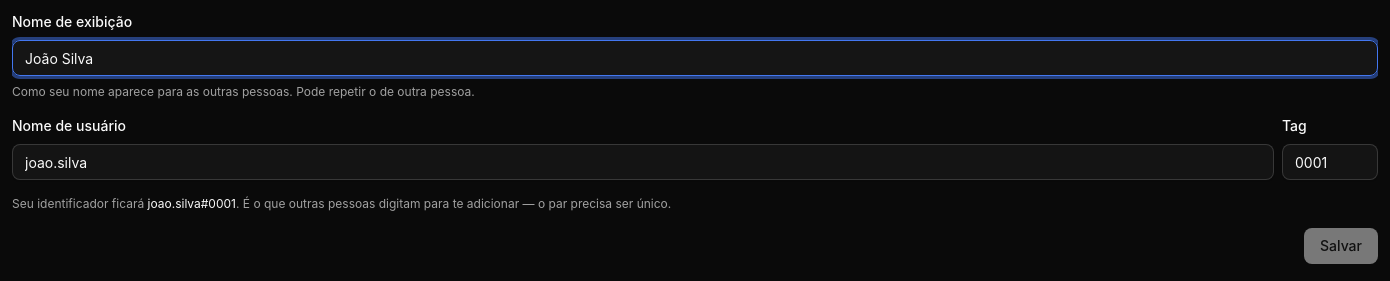
Test: EditProfileForm › a tag recusa qualquer coisa que não seja dígito e para em 4
Type "a1b2c3d4e5" into the field labelled "Tag".
click(1330, 162); type("a1b2c3d4e5")  # box 1282,144 -> 1378,180
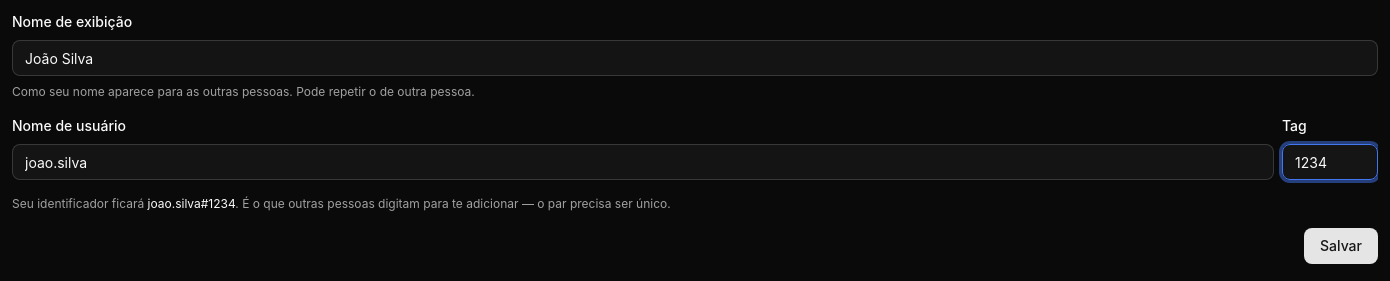
Now the field labelled "Tag" holds "1234", box 1282,144 -> 1378,180
